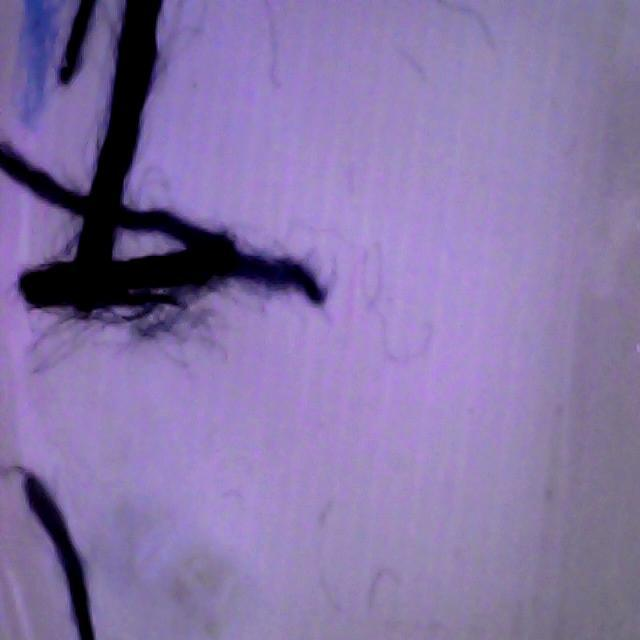fibers: (69, 0, 168, 270), (18, 238, 326, 315), (15, 461, 107, 640), (0, 140, 95, 223), (113, 205, 233, 250), (56, 0, 94, 84)
